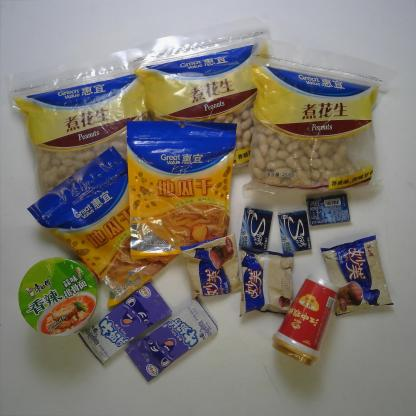Candy: (77, 280, 174, 367), (124, 297, 219, 385)
Dessert: (320, 233, 395, 318), (180, 232, 242, 301), (237, 246, 295, 318)
Dried Food: (240, 34, 399, 213), (124, 14, 278, 179), (5, 41, 148, 200)
Dried Fruit: (26, 145, 182, 309), (125, 119, 239, 262)
Gum: (236, 204, 275, 252), (306, 191, 352, 228), (277, 209, 313, 254)
Instant Drink: (270, 271, 342, 368)
Instant Noodles: (17, 256, 102, 339)
